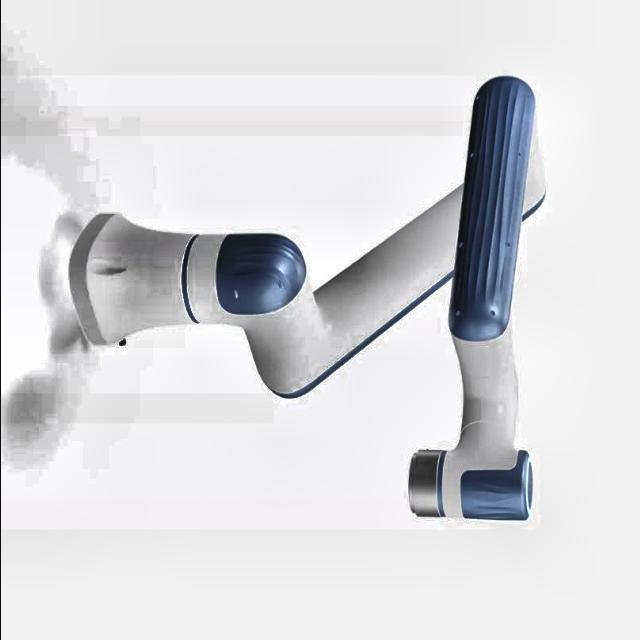robot: (68, 74, 548, 521)
